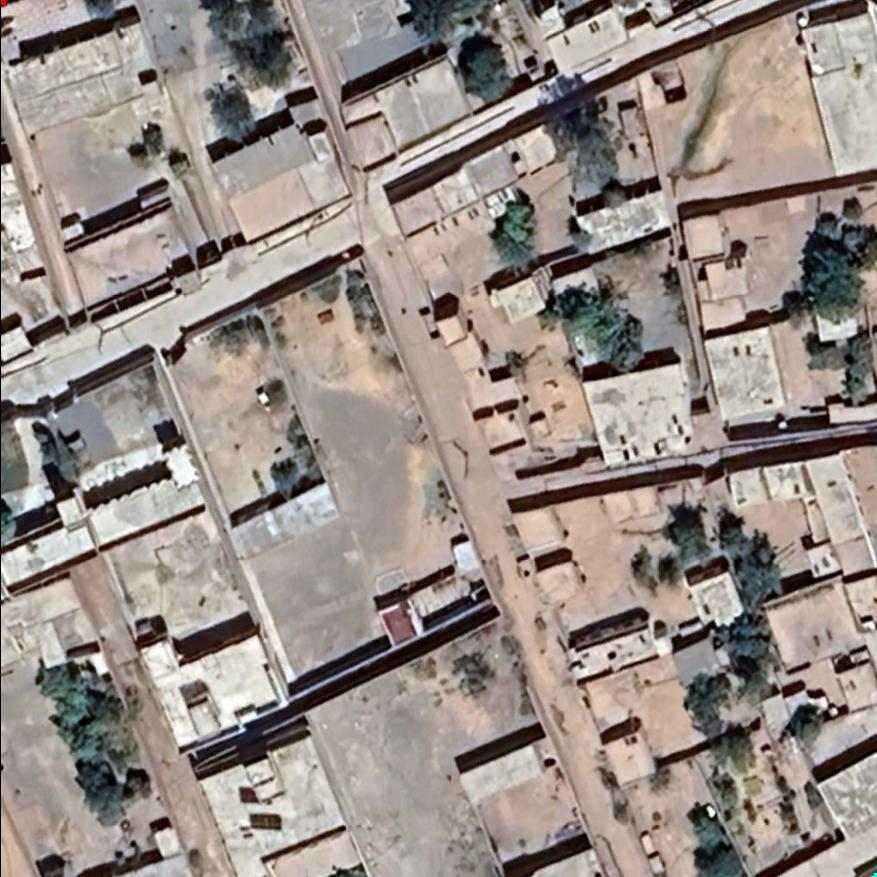Solarpanel: (246, 812, 281, 833)
